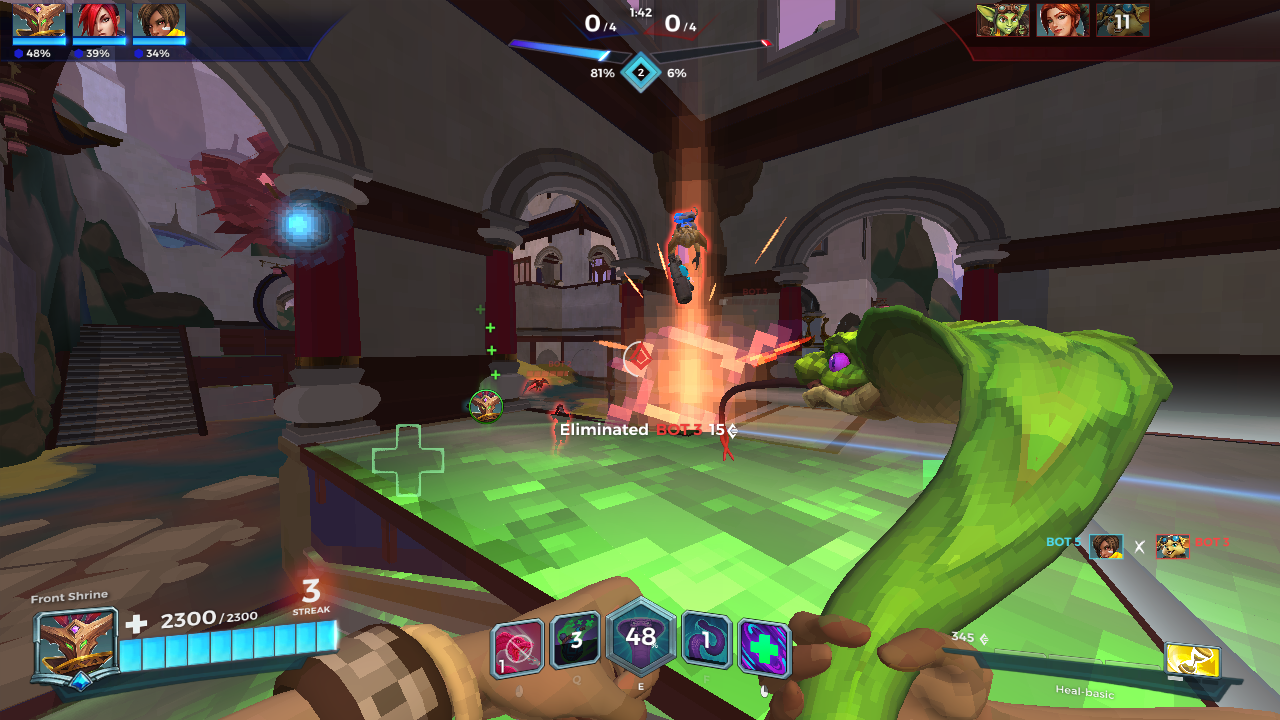model: (546, 398, 578, 445)
